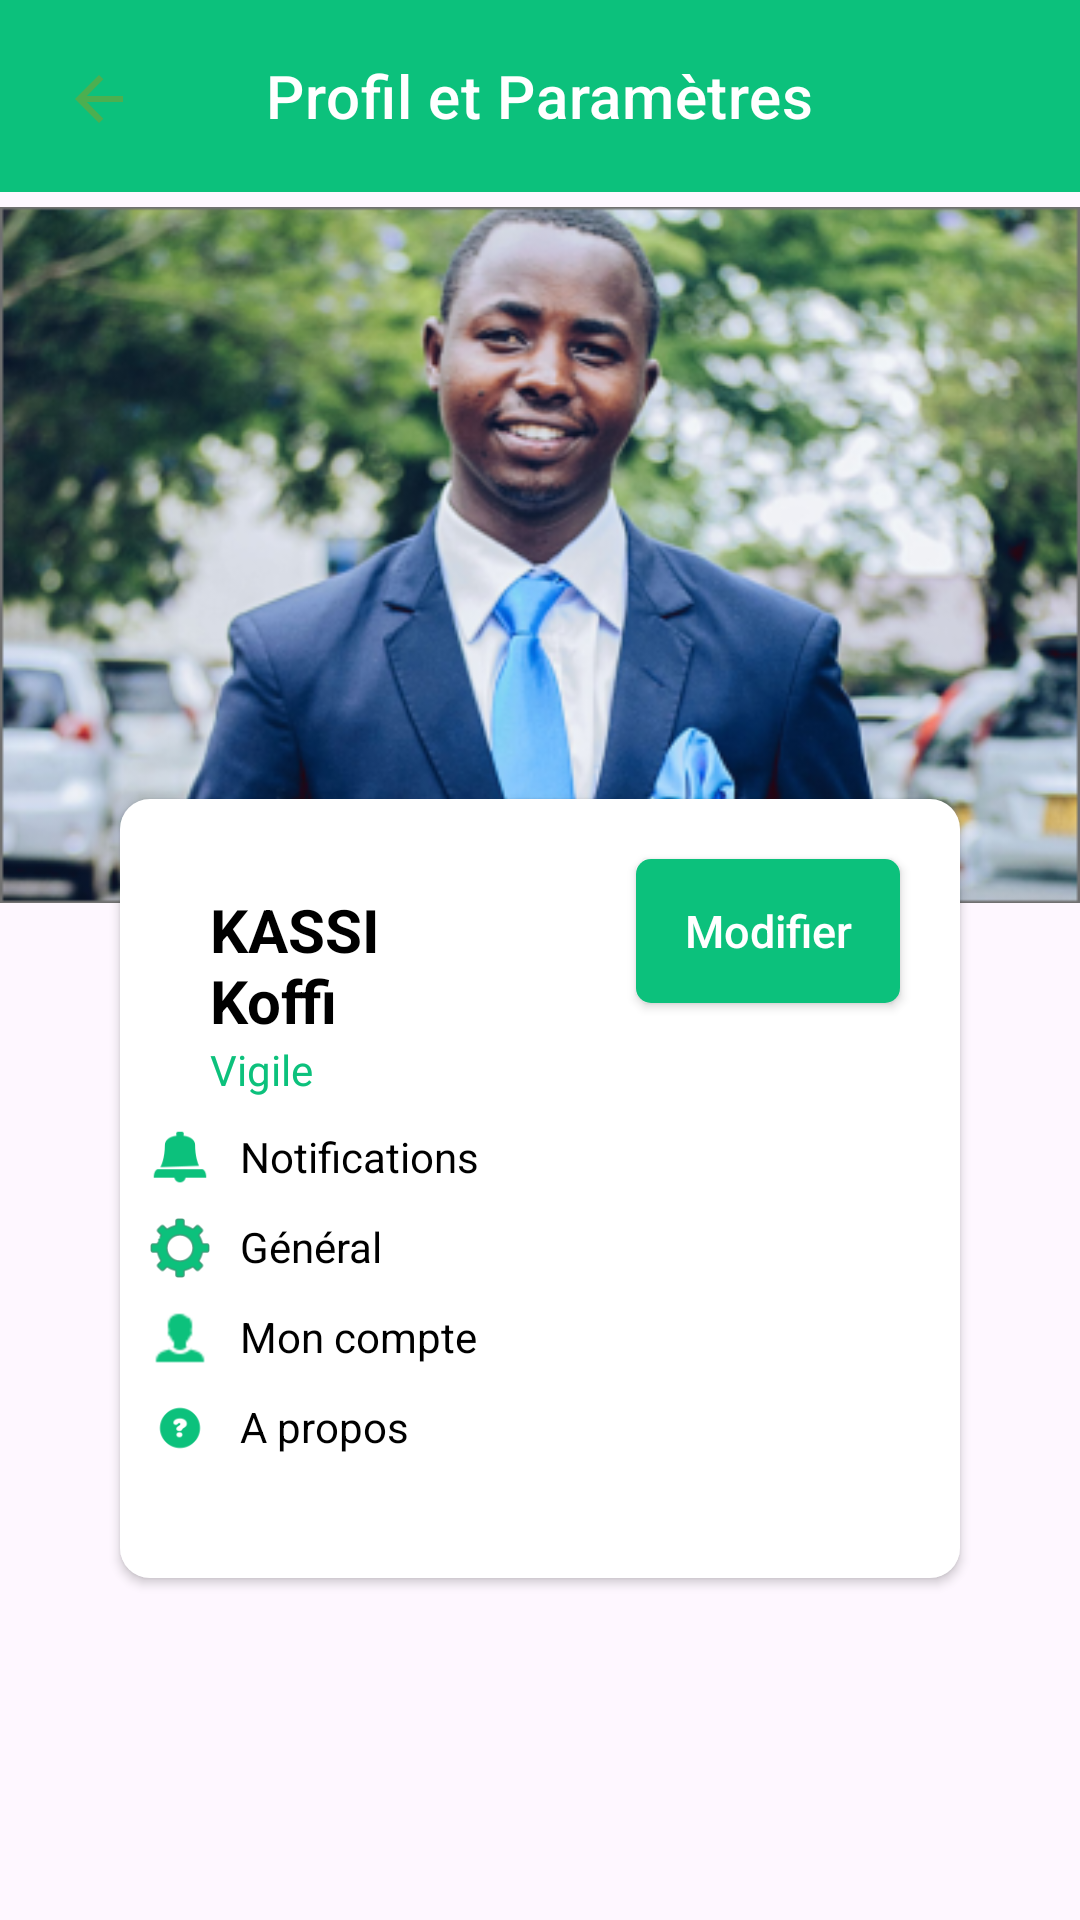

Named icons in this screenshot (1080 × 1920) and their centers, (x,y):
arrow: (99,99)
iconbell: (180,1157)
iconhelp: (180,1428)
iconpers: (180,1338)
iconset: (180,1248)
